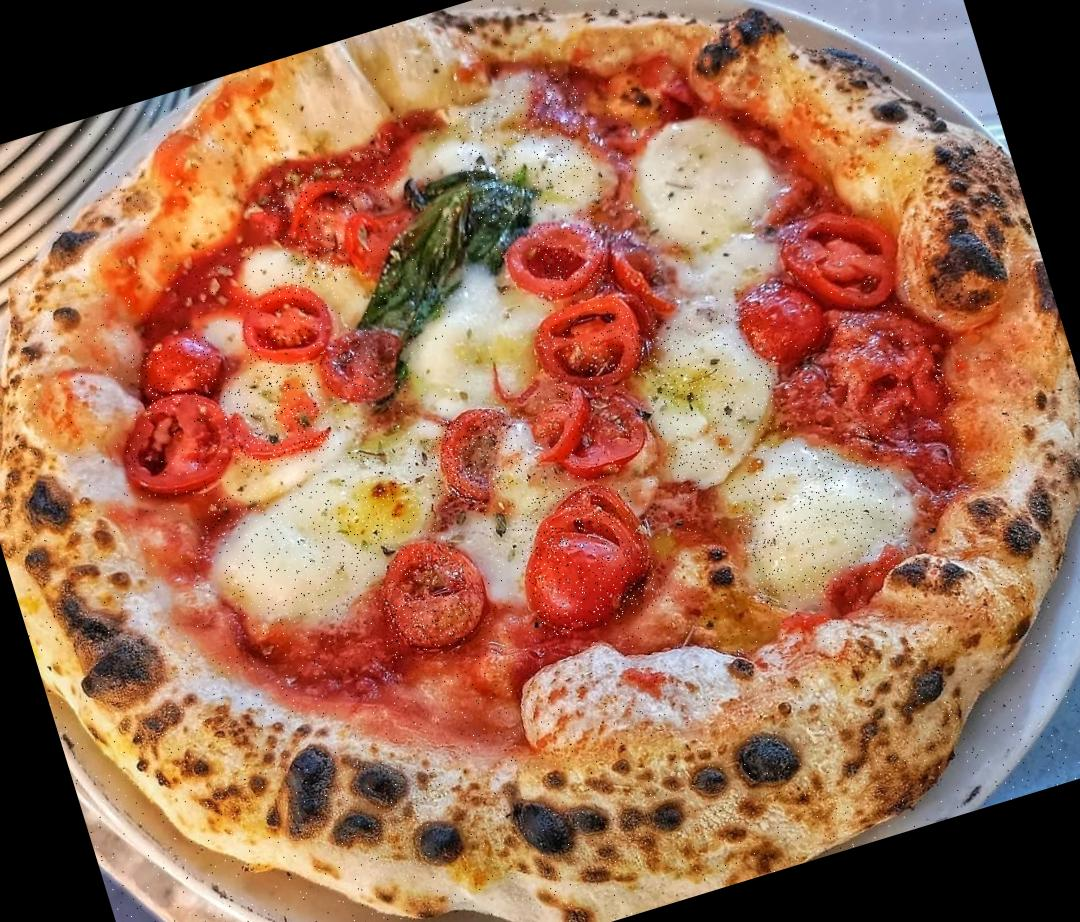Basil: (332, 157, 560, 377)
Cheese: (204, 438, 457, 641), (721, 422, 921, 612), (631, 295, 802, 499), (444, 71, 611, 231), (624, 106, 790, 243), (398, 294, 554, 426)
Pizza: (0, 0, 1080, 922)
Tomatoes: (506, 469, 664, 639), (259, 143, 424, 298), (826, 285, 970, 448), (772, 182, 924, 329), (112, 383, 248, 514), (520, 358, 654, 490), (361, 519, 485, 660), (213, 353, 340, 478), (522, 287, 653, 403), (490, 209, 619, 315), (226, 263, 342, 376), (416, 396, 532, 508), (731, 268, 831, 366), (314, 320, 416, 408), (129, 330, 226, 418), (615, 243, 670, 318)
